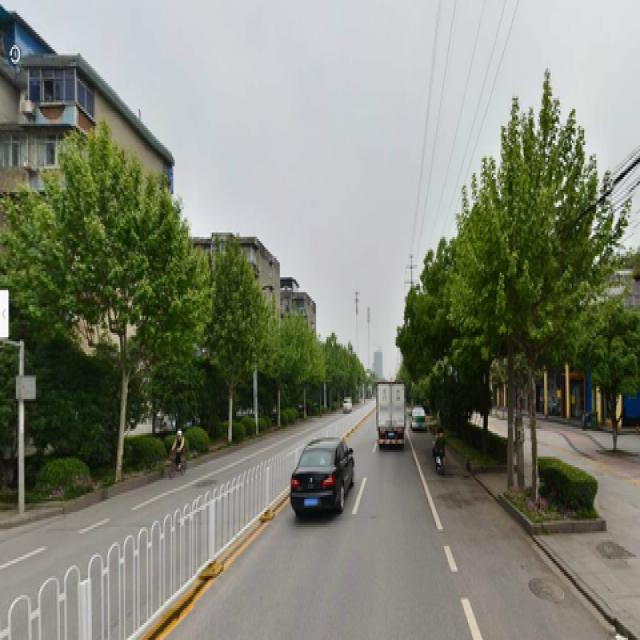meta: (29, 154, 199, 472)
